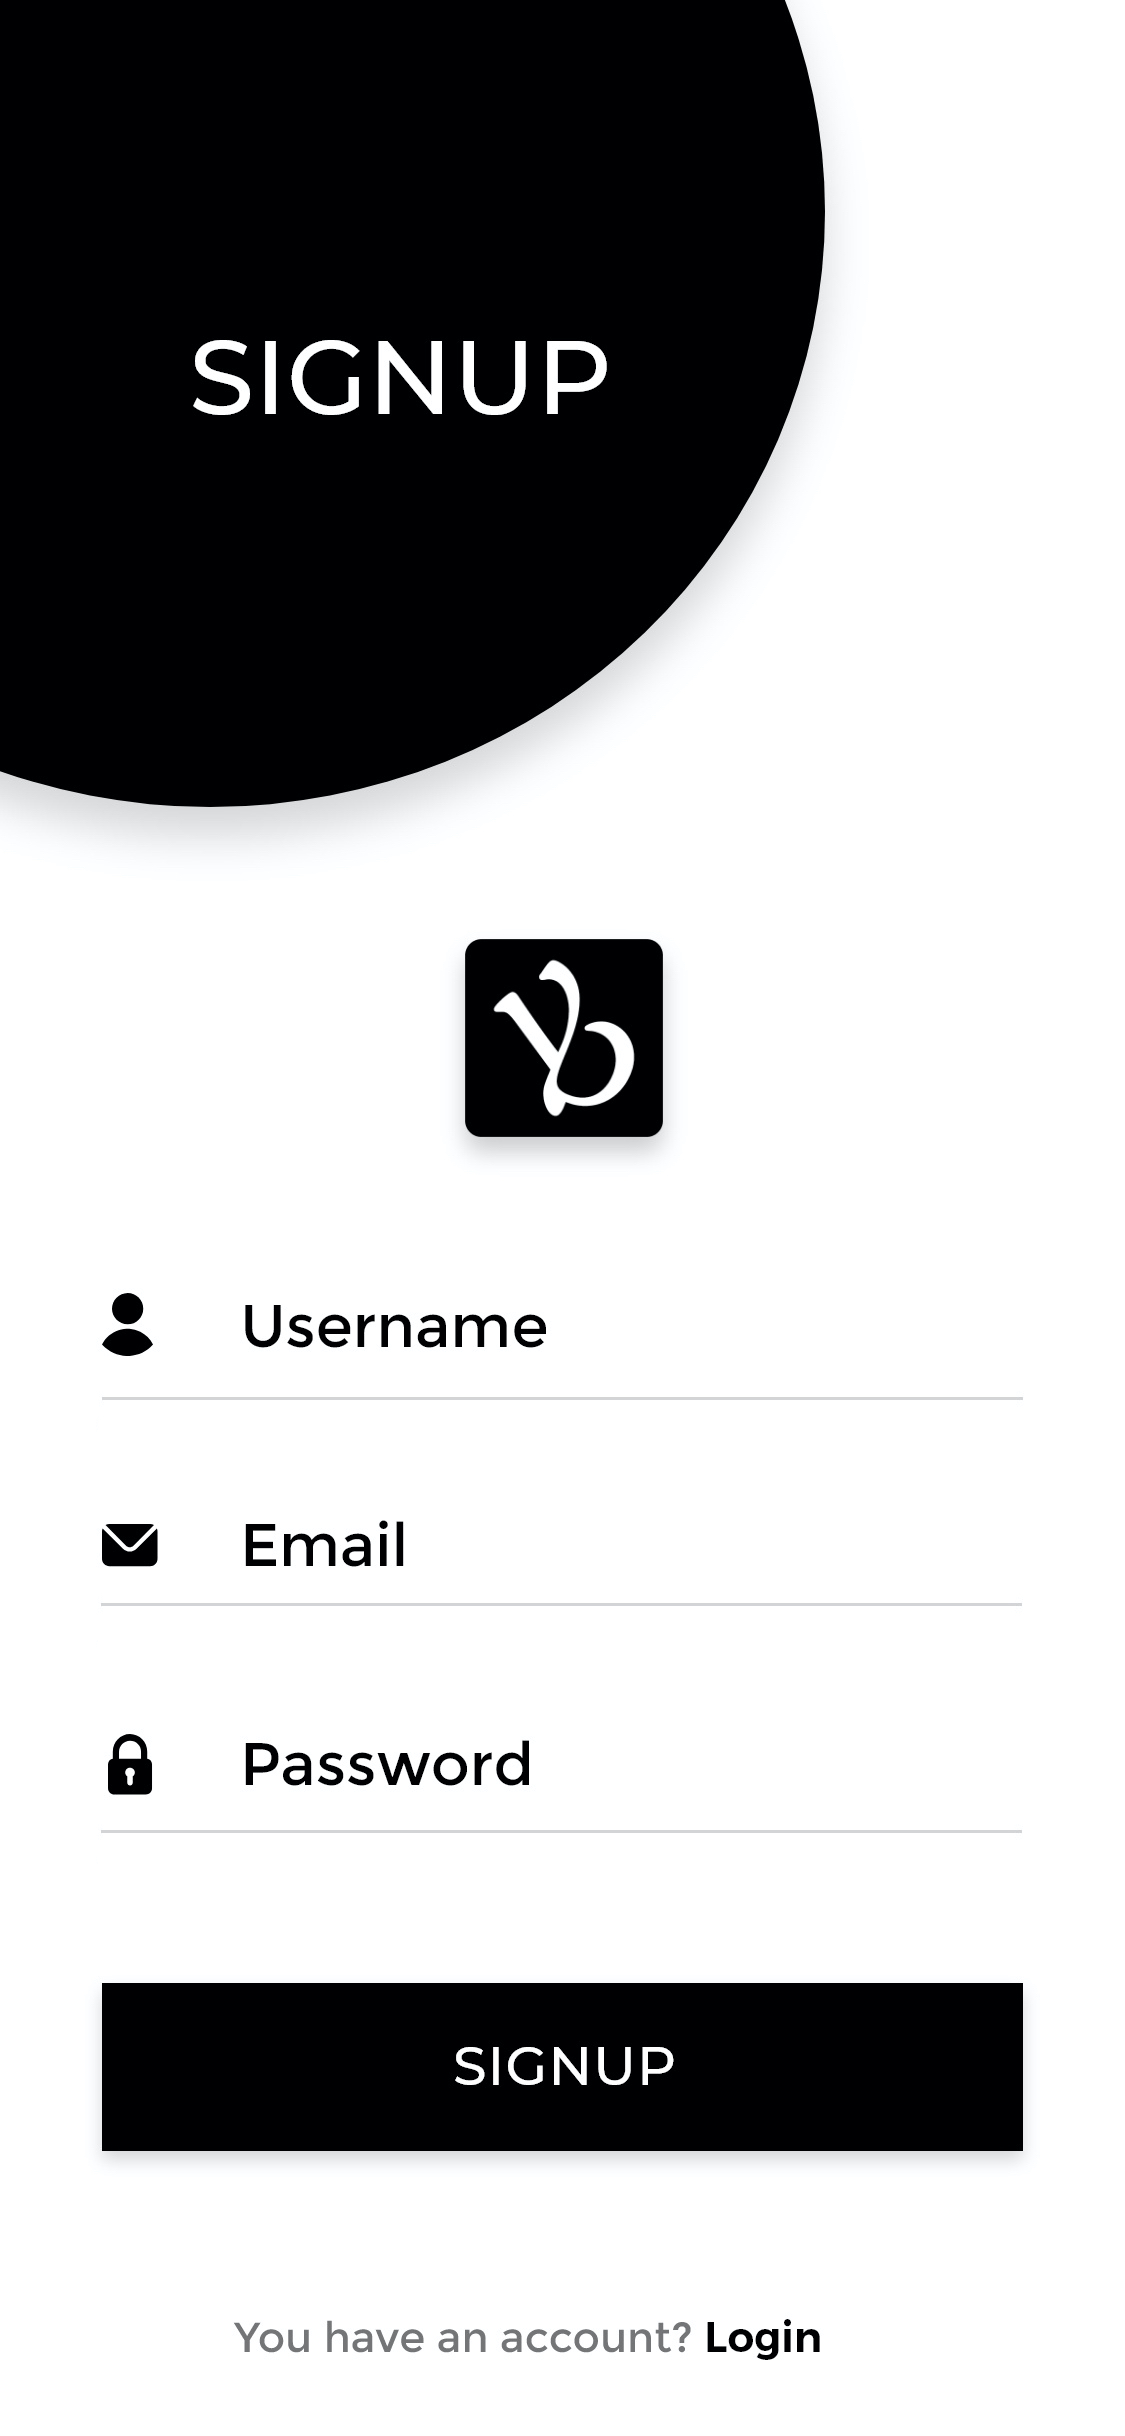EditText: (101, 1293, 1024, 1401), (101, 1732, 1024, 1835), (99, 1519, 1024, 1608)
Icon: (103, 1293, 155, 1356), (109, 1734, 152, 1796), (103, 1524, 158, 1568)
Image: (465, 938, 664, 1139)
Text: (193, 339, 608, 416), (235, 2318, 820, 2361), (246, 1303, 549, 1348), (246, 1740, 531, 1787), (246, 1519, 406, 1568)
TextButton: (103, 1982, 1022, 2152)
